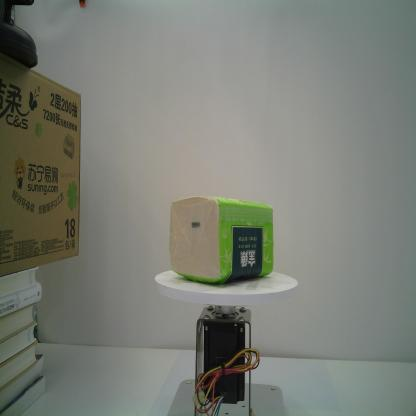Tissue: (168, 194, 276, 286)
